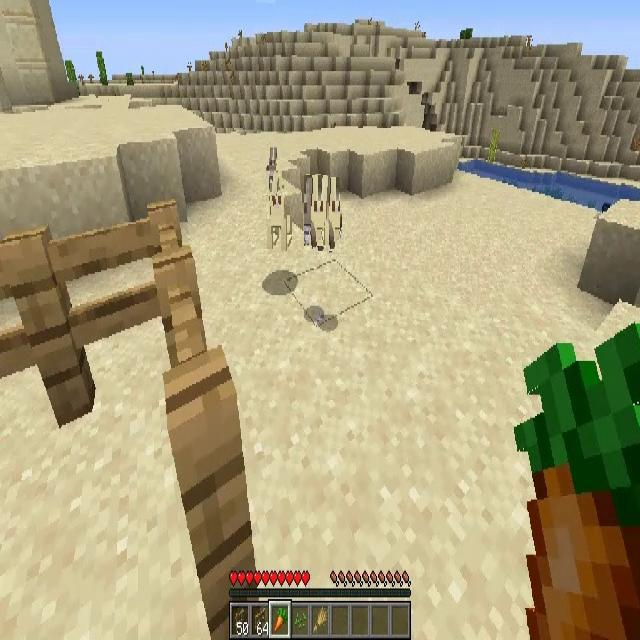rabbit: (311, 177, 340, 251), (304, 175, 329, 246), (268, 177, 289, 247), (266, 146, 280, 196)
